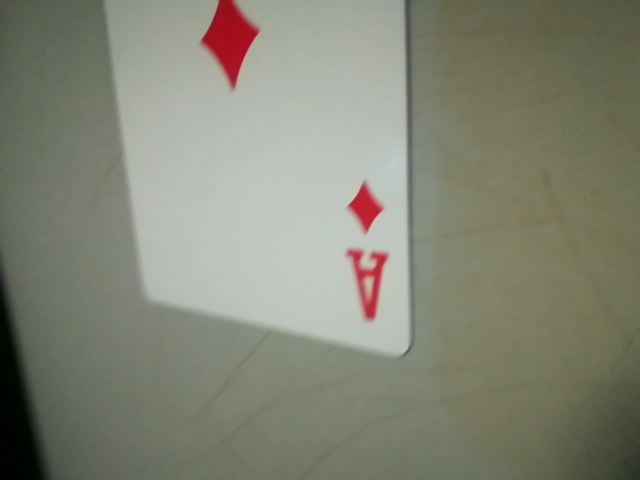fk a: (329, 164, 400, 343)
